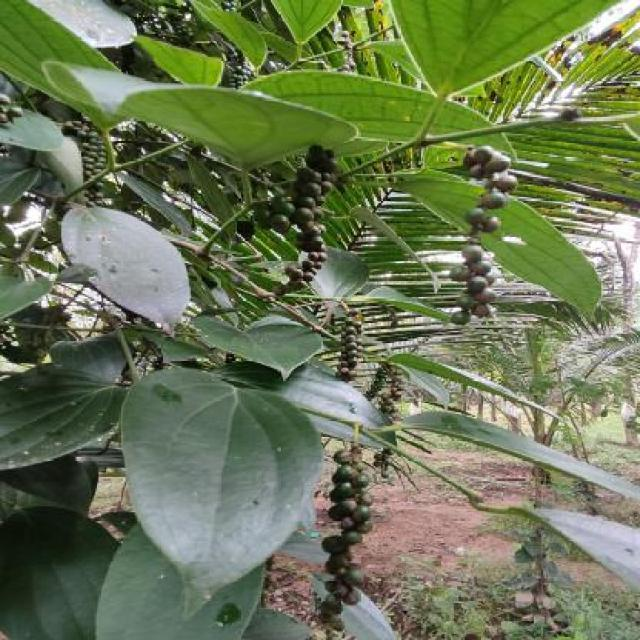UNRIPE: (259, 143, 336, 289), (450, 151, 513, 323), (323, 451, 366, 631), (60, 123, 106, 206), (368, 365, 402, 411), (339, 318, 362, 377), (228, 49, 251, 86), (339, 31, 356, 74), (370, 449, 393, 477), (169, 15, 191, 43), (0, 96, 20, 125)
